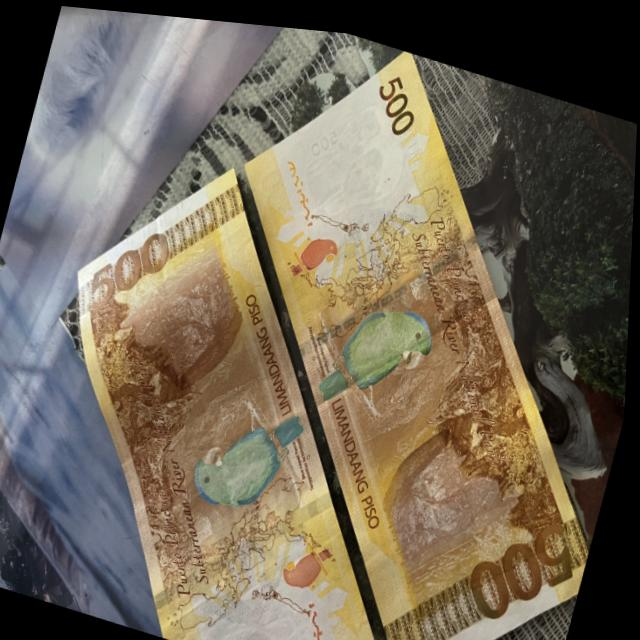500_big_parrot: (315, 274, 442, 420), (191, 383, 309, 520)
500_parrot_watermark: (287, 217, 347, 290), (281, 525, 341, 593)
value_watermark: (307, 111, 342, 155)
watermark: (295, 87, 411, 234), (212, 585, 325, 640)
